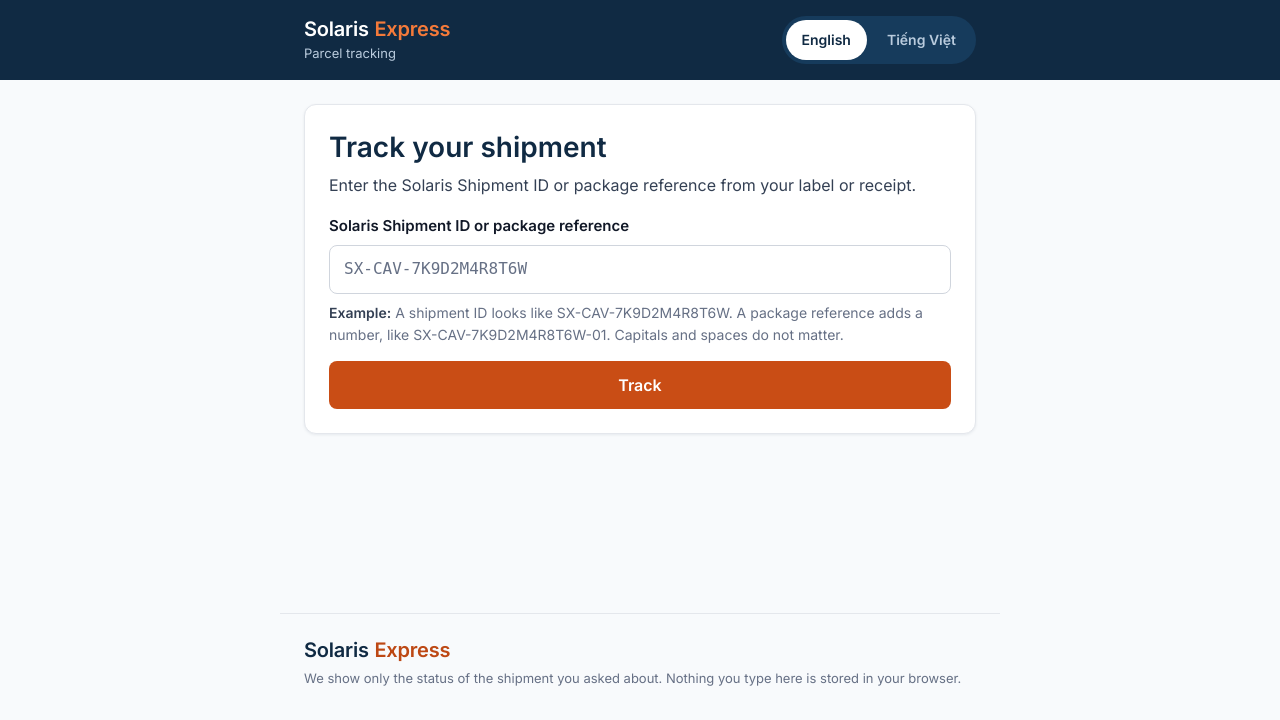
reference entry › normalizes a pasted, lowercase, space-padded reference before looking it up
Step 1. Type "  sx-cav-7k9d2m4r8t6w.  " into the field labelled "Solaris Shipment ID or package reference" → (640, 270), box [329,245,951,294]
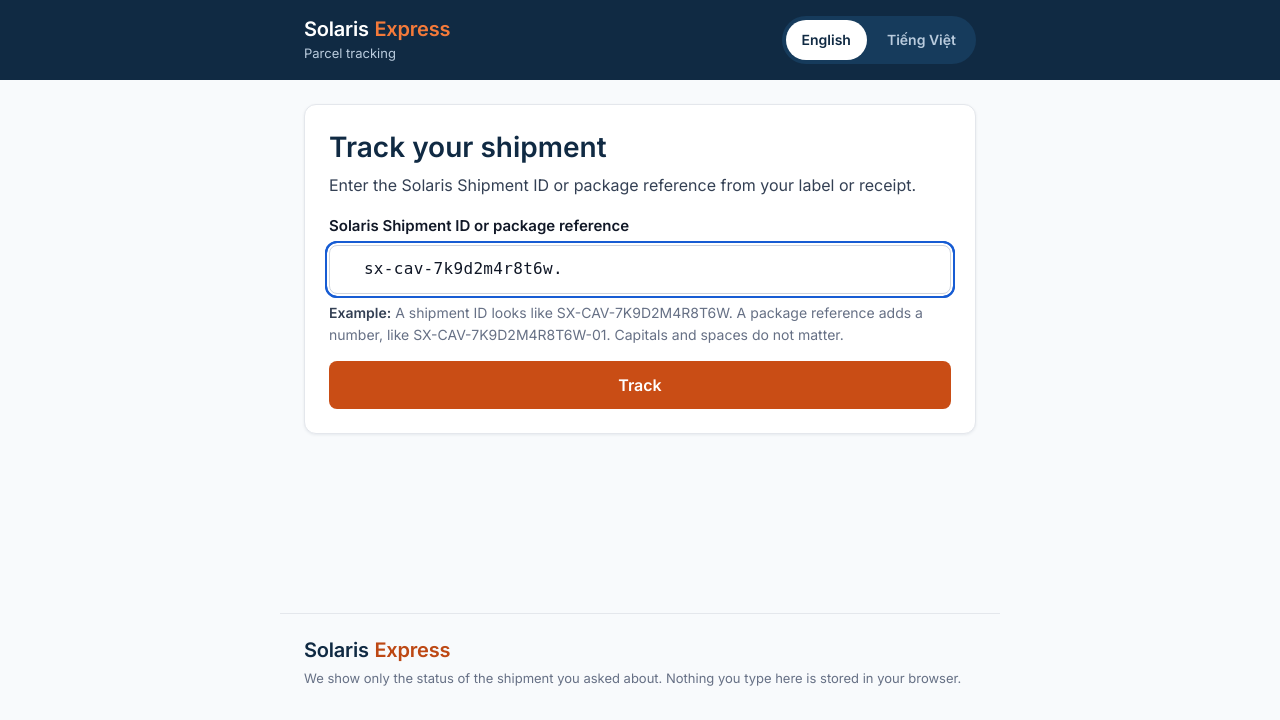
Step 2. Click the button "Track" → (640, 385), box [329,361,951,409]
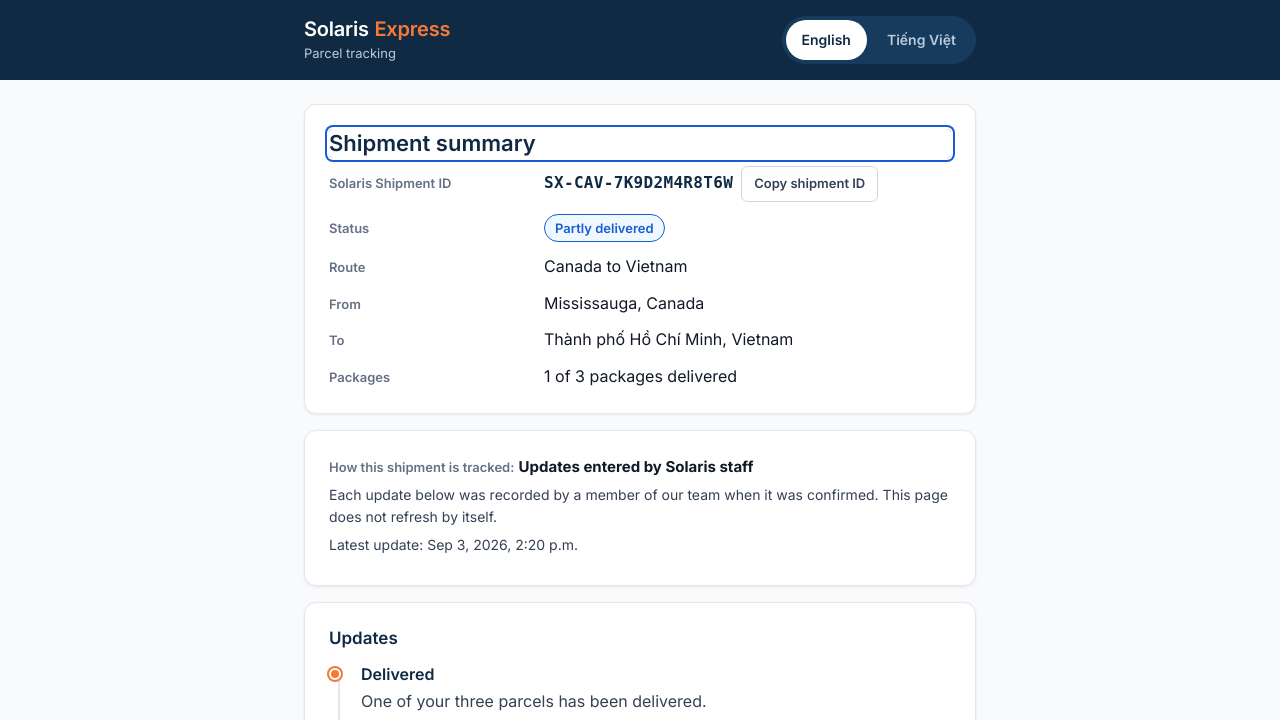
Now the text "SX-CAV-7K9D2M4R8T6W" is shown, box [544,172,733,195]
